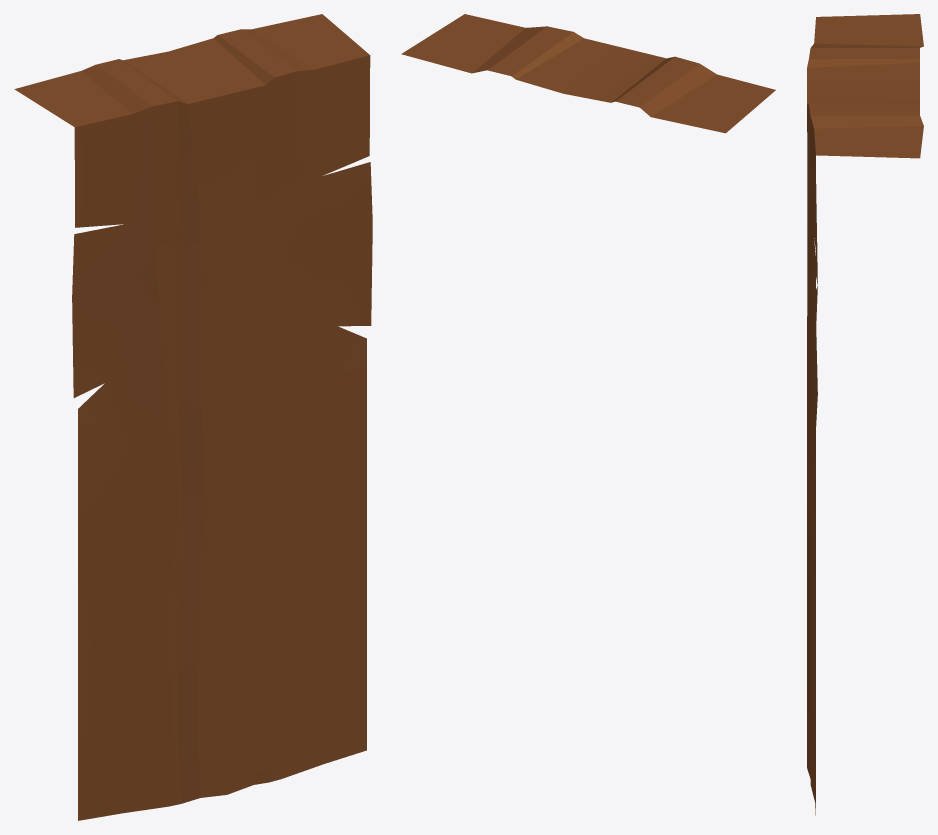
File: Flag_Wall.glb
3 views of the same model, side by side, from view 1: azimuth 30°, elevation 25°; view 2: azimuth 150°, elevation 25°; view 3: azimuth 270°, elevation 25° (orthographic). The views are drawn at different scales.
Parts seen in each view (by area): view 1: Flag_Wall_Cylinder.040; view 2: Flag_Wall_Cylinder.040; view 3: Flag_Wall_Cylinder.040.
Part boxes in pixels (x1,y1,x2,y2): Flag_Wall_Cylinder.040: (14,14,372,820); Flag_Wall_Cylinder.040: (401,14,775,133); Flag_Wall_Cylinder.040: (807,14,923,815).
Bounding box in the file's own units: 0.9235 × 2.02 × 0.316.
